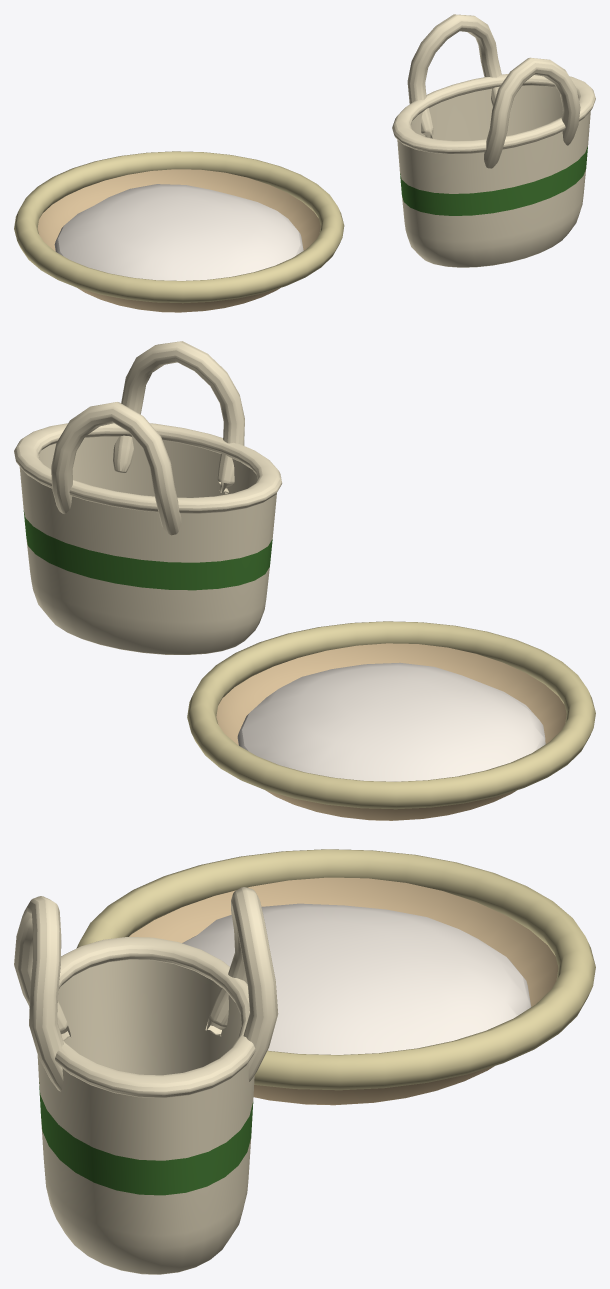
The model's file is pf_basket_3.glb.
3 views of the same model, one above another, from view 1: azimuth 30°, elevation 25°; view 2: azimuth 150°, elevation 25°; view 3: azimuth 270°, elevation 25° (orthographic). The views are drawn at different scales.
Parts seen in each view (by area): view 1: basket_3_pf_buri, basket_3_pf_shells, basket_3_bamboo, basket_3_pf_rattan; view 2: basket_3_pf_buri, basket_3_pf_shells, basket_3_bamboo, basket_3_pf_rattan; view 3: basket_3_pf_buri, basket_3_pf_shells, basket_3_bamboo, basket_3_pf_rattan.
Part boxes in pixels (x1,y1,x2,y2): basket_3_pf_buri: (392,14,595,267); basket_3_pf_shells: (54,184,303,280); basket_3_bamboo: (14,151,344,303); basket_3_pf_rattan: (37,169,320,312); basket_3_pf_buri: (14,341,282,654); basket_3_pf_shells: (237,662,545,781); basket_3_bamboo: (187,621,595,809); basket_3_pf_rattan: (216,643,566,820); basket_3_pf_buri: (14,887,278,1274); basket_3_pf_shells: (182,903,531,1054); basket_3_bamboo: (77,849,595,1090); basket_3_pf_rattan: (129,877,558,1105).
Size of the model in its own units: 1.36 by 0.5329 by 0.8687.
